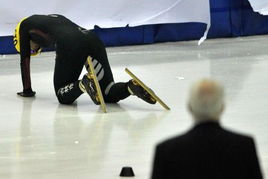fall: (7, 9, 173, 107)
